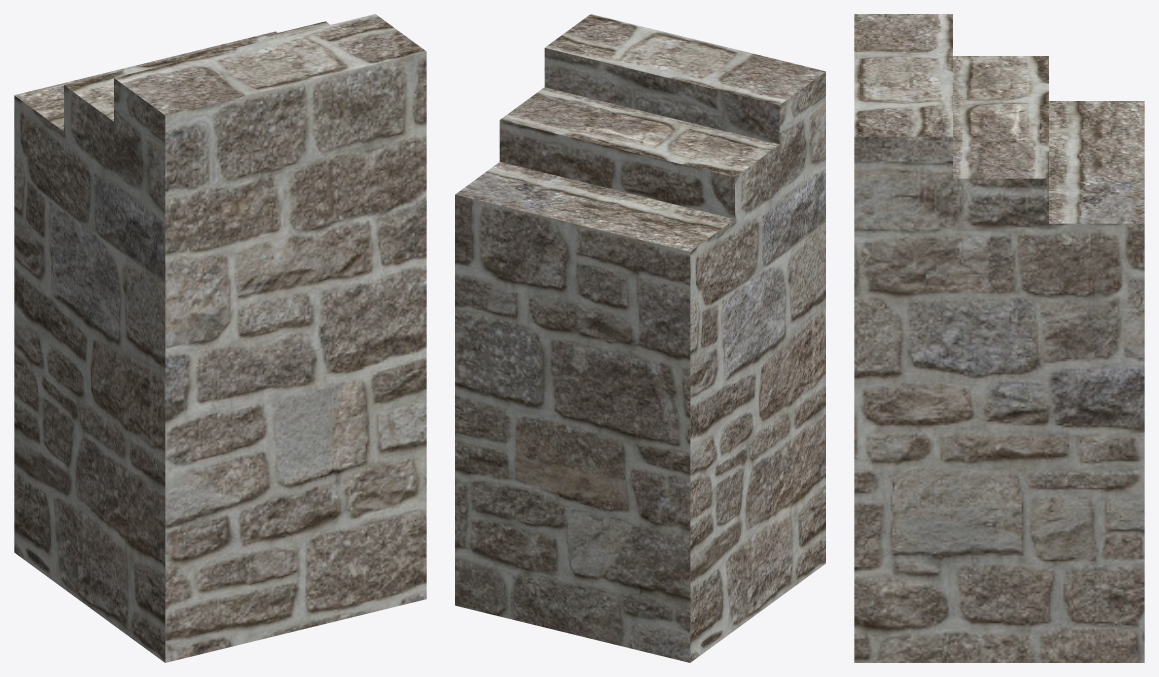
Rendered from escalera04.obj.
3 views of the same model, side by side, from view 1: azimuth 30°, elevation 25°; view 2: azimuth 150°, elevation 25°; view 3: azimuth 270°, elevation 25° (orthographic). The views are drawn at different scales.
Size of the model in its own units: 1 by 2 by 1.
